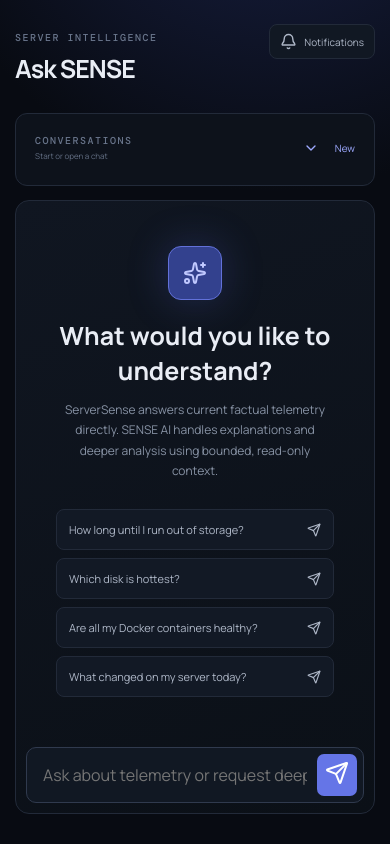
Test: SENSE requests › collapses conversation history behind a mobile-friendly toggle
Click the button "CONVERSATIONS Start or open a chat".
click(84, 140)  # box [31, 130, 323, 165]
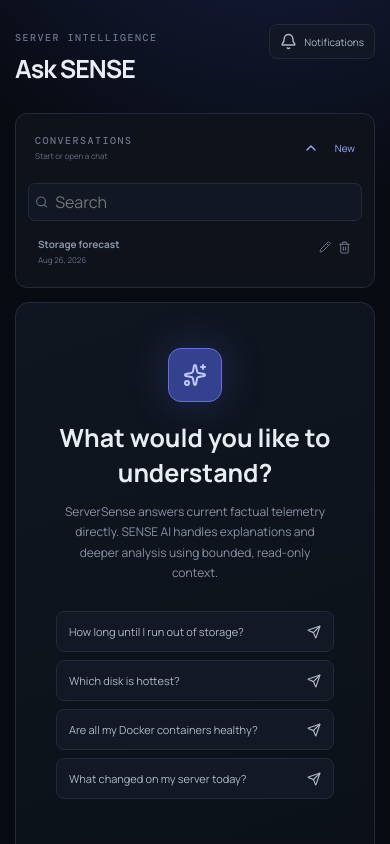
Result: the button "CONVERSATIONS Start or open a chat" is expanded at [31, 130, 323, 165]
